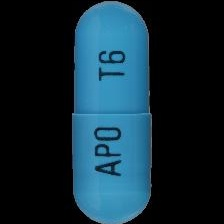42291-812: (0, 0, 224, 224)
